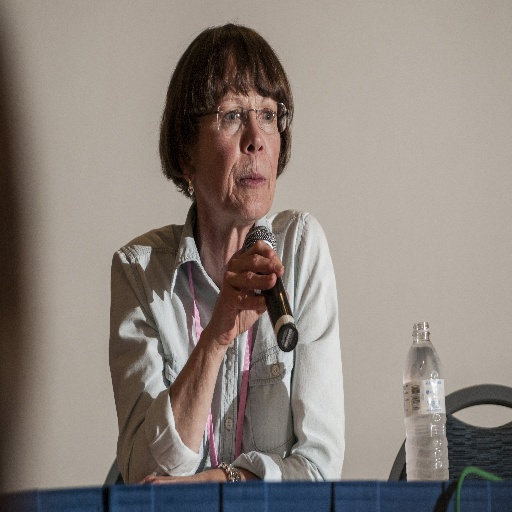hand: (207, 237, 290, 349), (136, 468, 226, 487)
